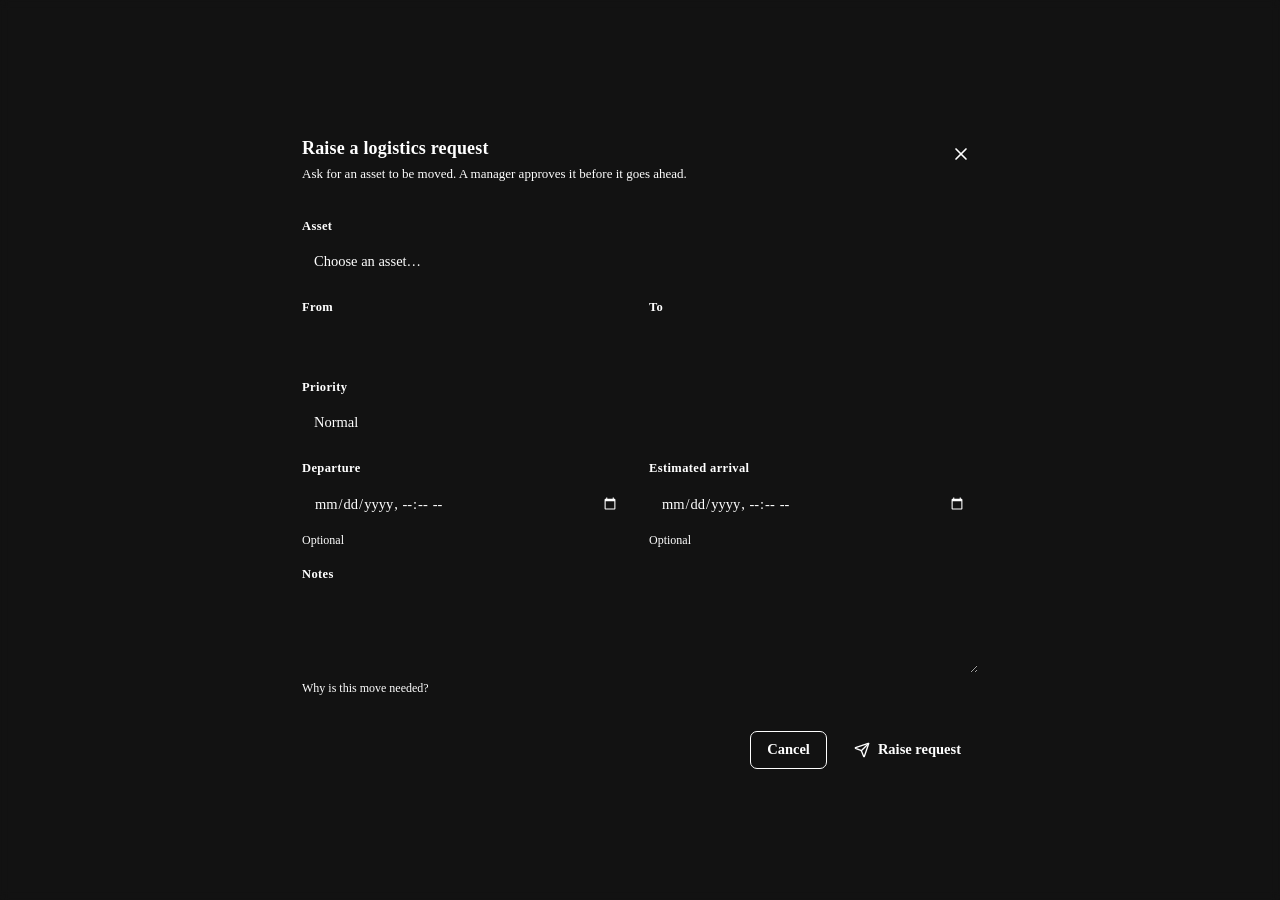
Test: RequestModal: checking the form › explains what is missing and sends nothing
Expected: the dropdown labelled "Asset" is shown, 302,242 -> 978,282
Click the button "Raise request" at (907, 750), box 837,731 -> 978,769
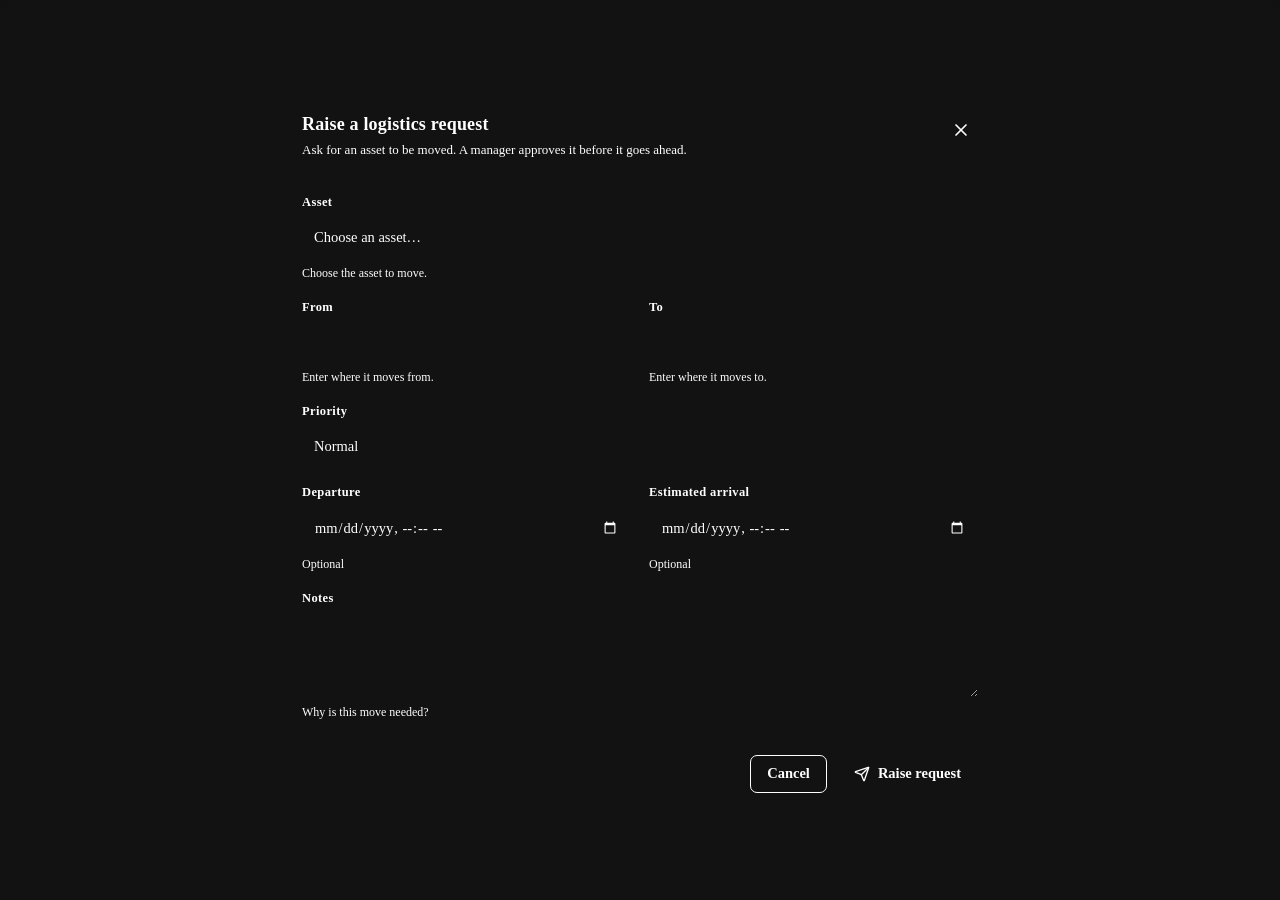
Result: the text "Choose the asset to move." is shown at 302,266 -> 427,280
Result: the text "Enter where it moves from." is shown at 302,370 -> 434,384
Result: the text "Enter where it moves to." is shown at 649,370 -> 767,384
